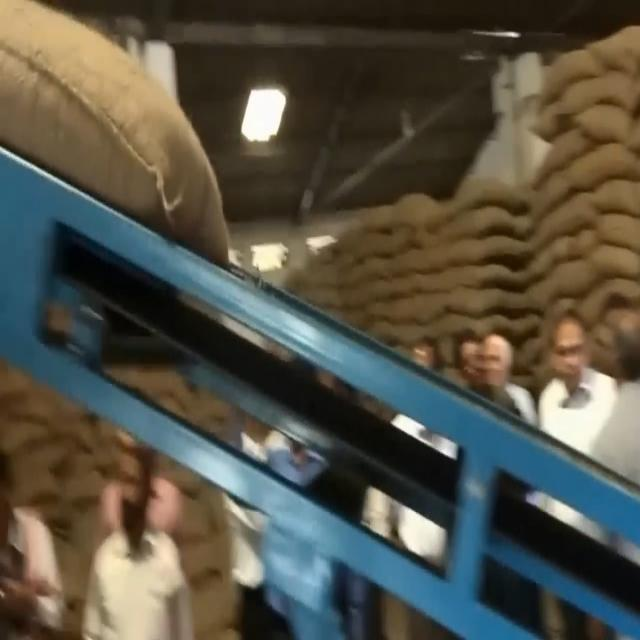gunny_bag: (0, 0, 232, 273), (438, 278, 544, 324), (563, 136, 640, 193), (523, 170, 595, 228), (443, 204, 531, 250), (449, 180, 532, 224), (533, 49, 612, 95), (581, 20, 640, 73), (573, 96, 640, 142), (524, 203, 592, 247), (442, 234, 528, 268), (451, 250, 526, 288), (523, 100, 581, 140), (382, 193, 445, 225), (591, 173, 640, 209), (587, 244, 640, 276)
